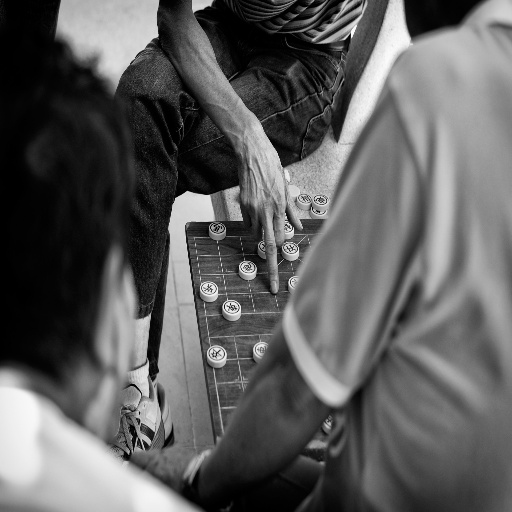hand: (224, 90, 296, 262), (121, 440, 195, 494)
